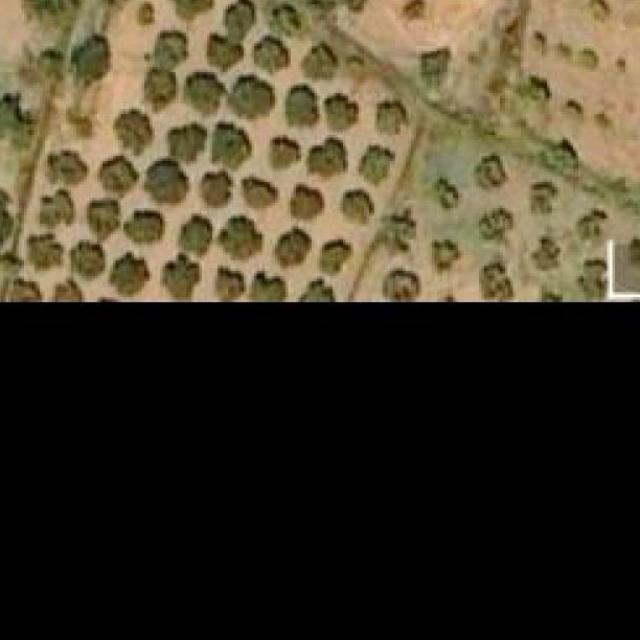Tree: (210, 122, 252, 175), (0, 91, 38, 148), (71, 33, 111, 86), (108, 250, 152, 297), (228, 76, 275, 120), (303, 137, 347, 183), (218, 216, 264, 258), (374, 208, 416, 253), (97, 154, 137, 201), (148, 156, 192, 198), (539, 138, 578, 185), (162, 255, 202, 300), (516, 76, 552, 122), (479, 253, 513, 300), (37, 189, 76, 229), (116, 112, 153, 154), (27, 229, 64, 271), (45, 151, 87, 187), (285, 86, 320, 128), (27, 0, 85, 25), (189, 70, 221, 115), (474, 150, 508, 192), (200, 170, 234, 212), (168, 122, 205, 159), (479, 208, 513, 248), (129, 206, 165, 243), (241, 175, 280, 209), (382, 266, 421, 300), (293, 44, 332, 78), (181, 213, 212, 255), (325, 93, 360, 130), (275, 229, 310, 266), (421, 49, 451, 91), (578, 258, 608, 300), (153, 28, 189, 63), (341, 187, 375, 224), (317, 237, 351, 274), (432, 170, 461, 212), (576, 208, 608, 245), (291, 182, 322, 219), (252, 269, 289, 300), (1, 271, 38, 302), (71, 239, 103, 274), (268, 132, 300, 167), (149, 70, 179, 107), (531, 237, 561, 272), (212, 30, 244, 62), (254, 35, 286, 67), (364, 145, 393, 180), (50, 273, 85, 302), (430, 239, 461, 271), (89, 201, 118, 235), (33, 46, 64, 77), (214, 269, 244, 300), (270, 4, 299, 34), (223, 0, 254, 28), (0, 178, 10, 259), (532, 182, 558, 213), (299, 279, 336, 300), (179, 0, 215, 20), (69, 112, 93, 138), (576, 46, 597, 75), (586, 0, 610, 23), (378, 106, 398, 132), (403, 0, 428, 20), (564, 96, 584, 120), (139, 4, 155, 25), (100, 0, 136, 7)
